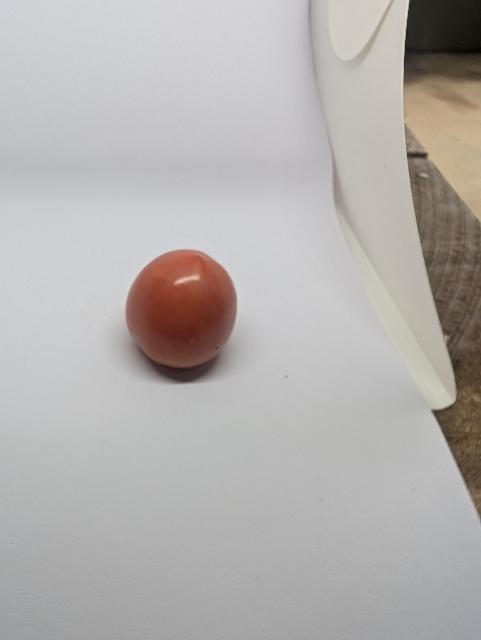red: (114, 235, 256, 391)
